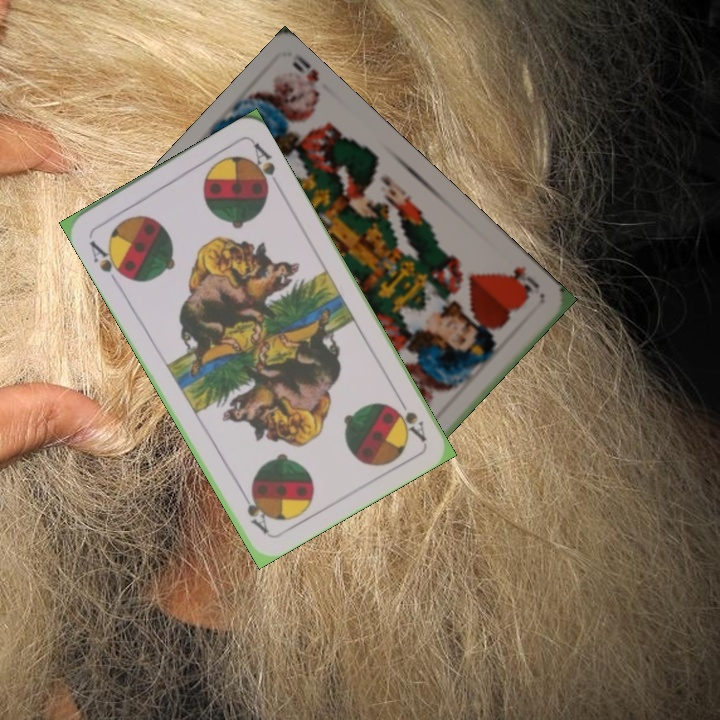HO: (498, 262, 542, 300)
SA: (387, 390, 429, 444), (85, 236, 129, 287)
